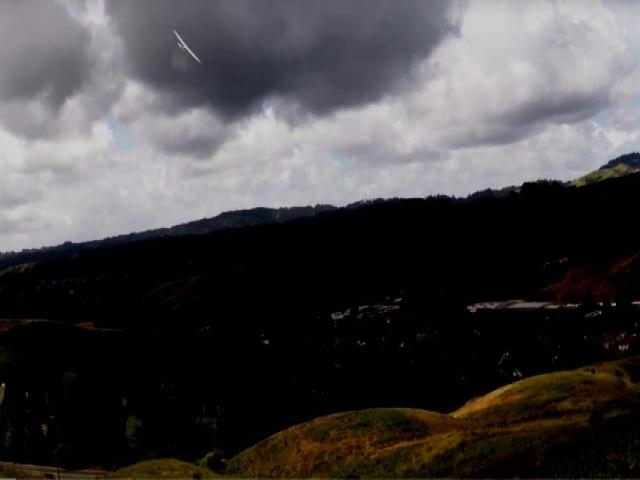iha: (173, 26, 201, 64)
